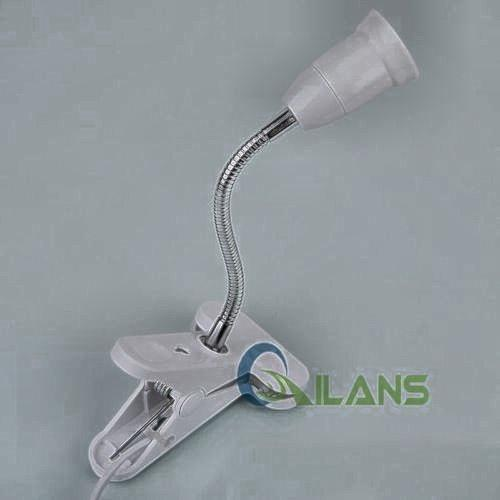lamp: (117, 30, 409, 452)
